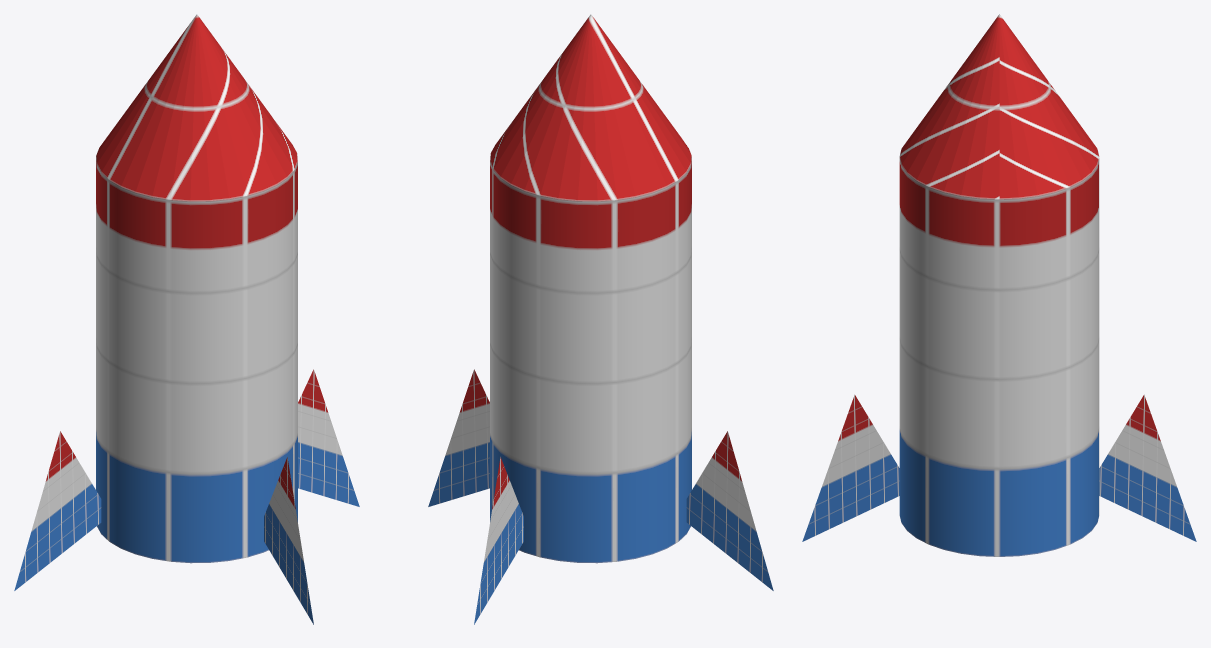
The model's file is rocket.gltf.
3 renders of one model, left to right at view 1: azimuth 30°, elevation 25°; view 2: azimuth 150°, elevation 25°; view 3: azimuth 270°, elevation 25°, orthographic.
Visible parts, largest first — view 1: StarterTexturedRocket; view 2: StarterTexturedRocket; view 3: StarterTexturedRocket.
Part boxes in pixels (x1,y1,x2,y2): StarterTexturedRocket: (14, 14, 359, 624); StarterTexturedRocket: (428, 14, 773, 624); StarterTexturedRocket: (802, 14, 1196, 556).
Bounding box in the file's own units: 1.5 × 2.25 × 1.5.
Materials: 1 (1 with a texture image).
